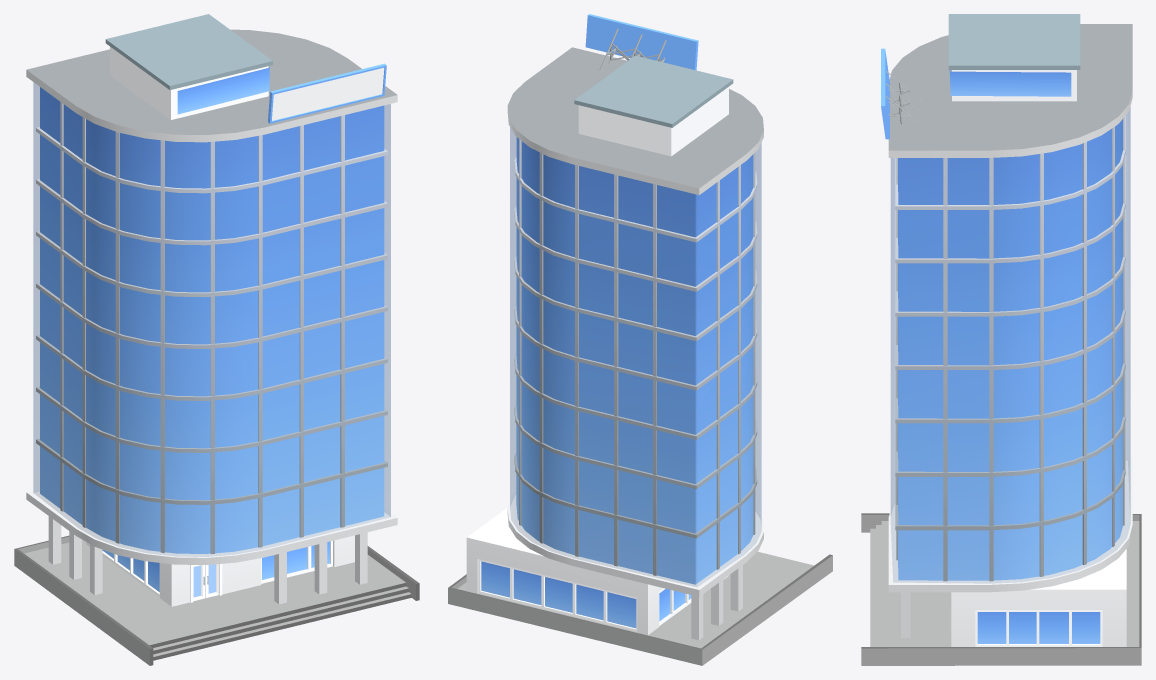
File: city2-building-business-09.glb
The picture shows the model from 3 angles, left to right: view 1: azimuth 30°, elevation 25°; view 2: azimuth 150°, elevation 25°; view 3: azimuth 270°, elevation 25°; orthographic projection. The views are drawn at different scales.
Parts seen in each view (by area): view 1: Building_Business_09; view 2: Building_Business_09; view 3: Building_Business_09.
Boxes of the visible parts, x1=… form: Building_Business_09: x1=14, y1=14, x2=419, y2=665; Building_Business_09: x1=448, y1=14, x2=832, y2=665; Building_Business_09: x1=861, y1=14, x2=1141, y2=665.
Size of the model in its own units: 17.05 by 32.26 by 14.94.
2 materials, 2 textured.
